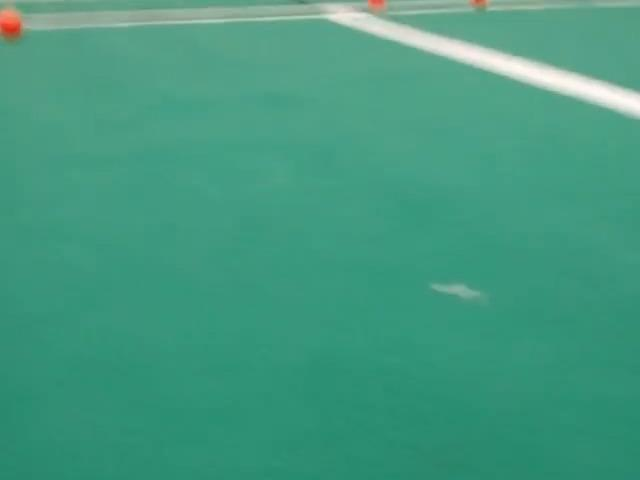Ball: (0, 8, 22, 40)
